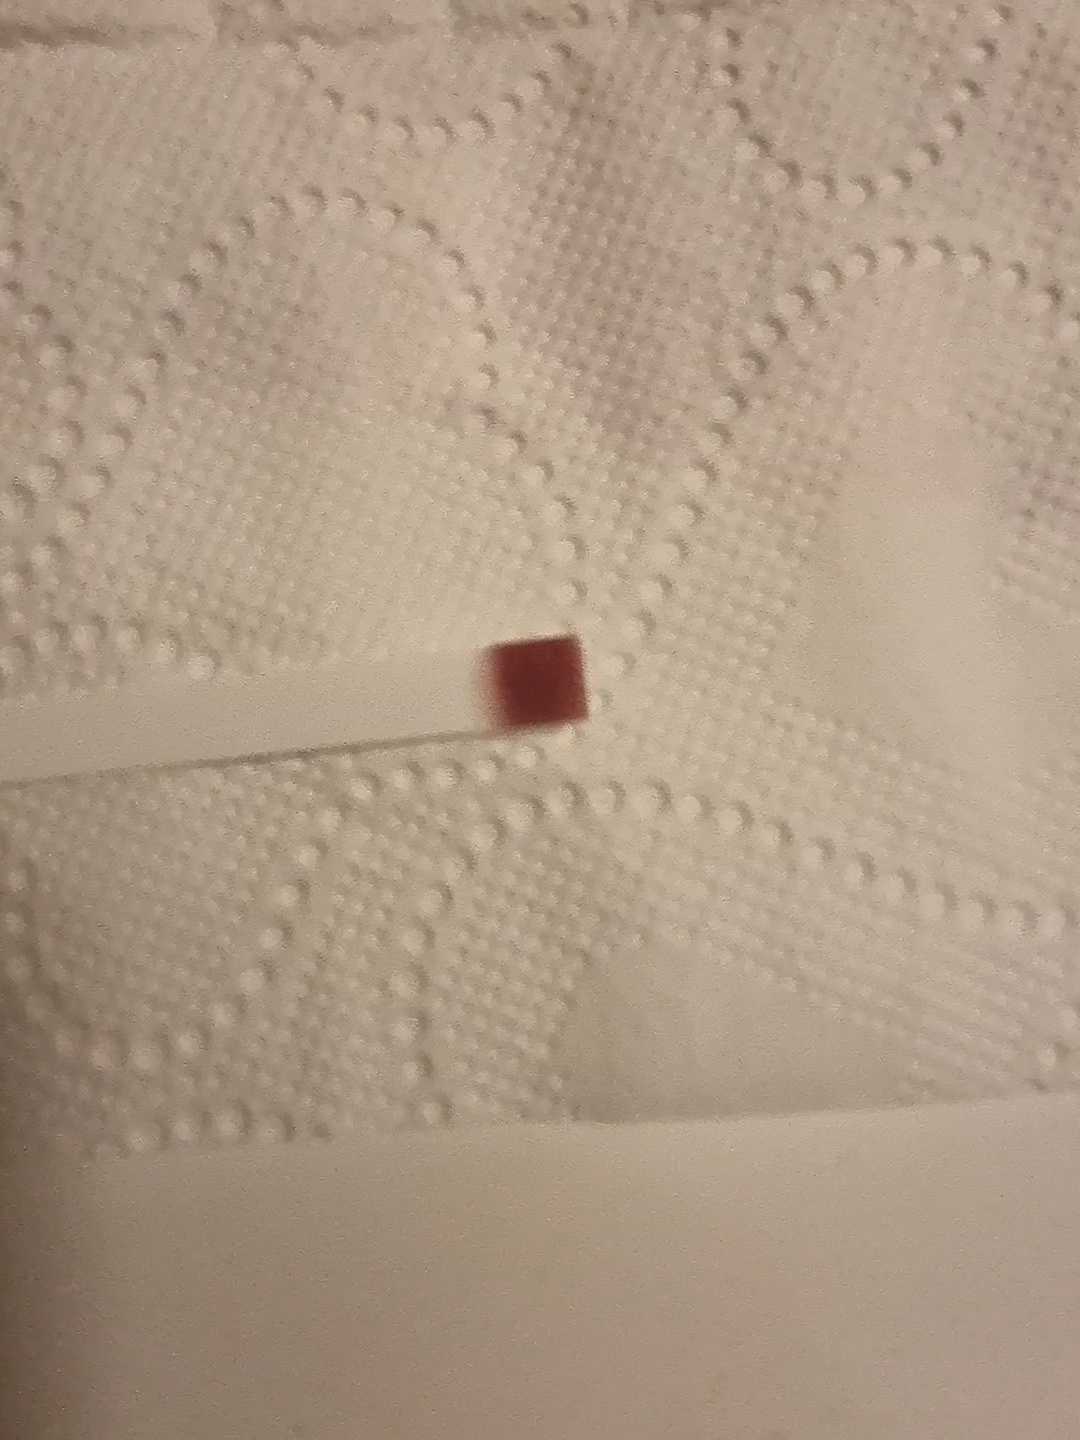keto-tip: (479, 629, 594, 737)
